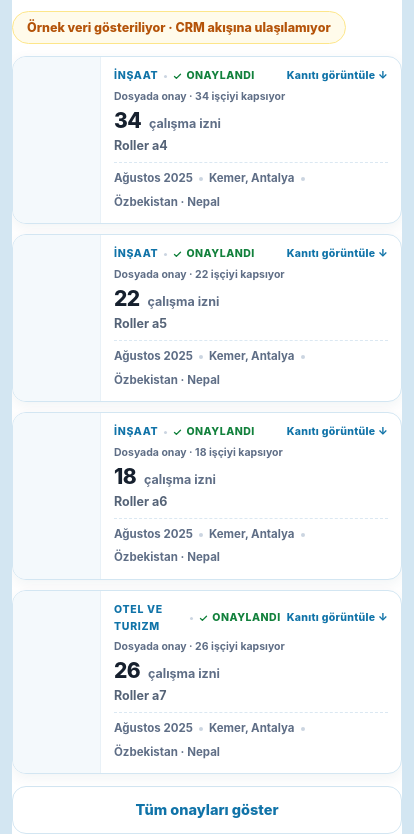
Test: ApprovalsWall (parity pass — design #cases, W148) › "Tüm onayları göster" opens the rest of the phone list and turns into "show fewer"
(page scrolled)
Click the button with test id "stories-more": coordinates (207, 810) [12,786,402,833]
(page scrolled)
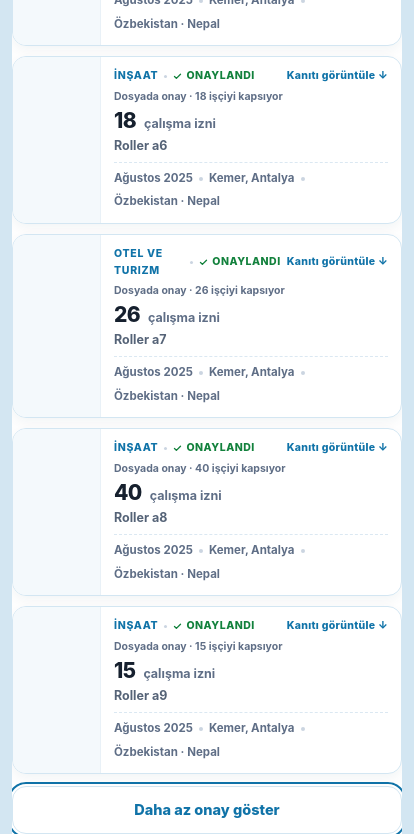
Expected: the button with test id "stories-more" is expanded, [12,786,402,833]
Expected: the button with test id "stories-more" reads "Daha az onay göster", [12,786,402,833]
